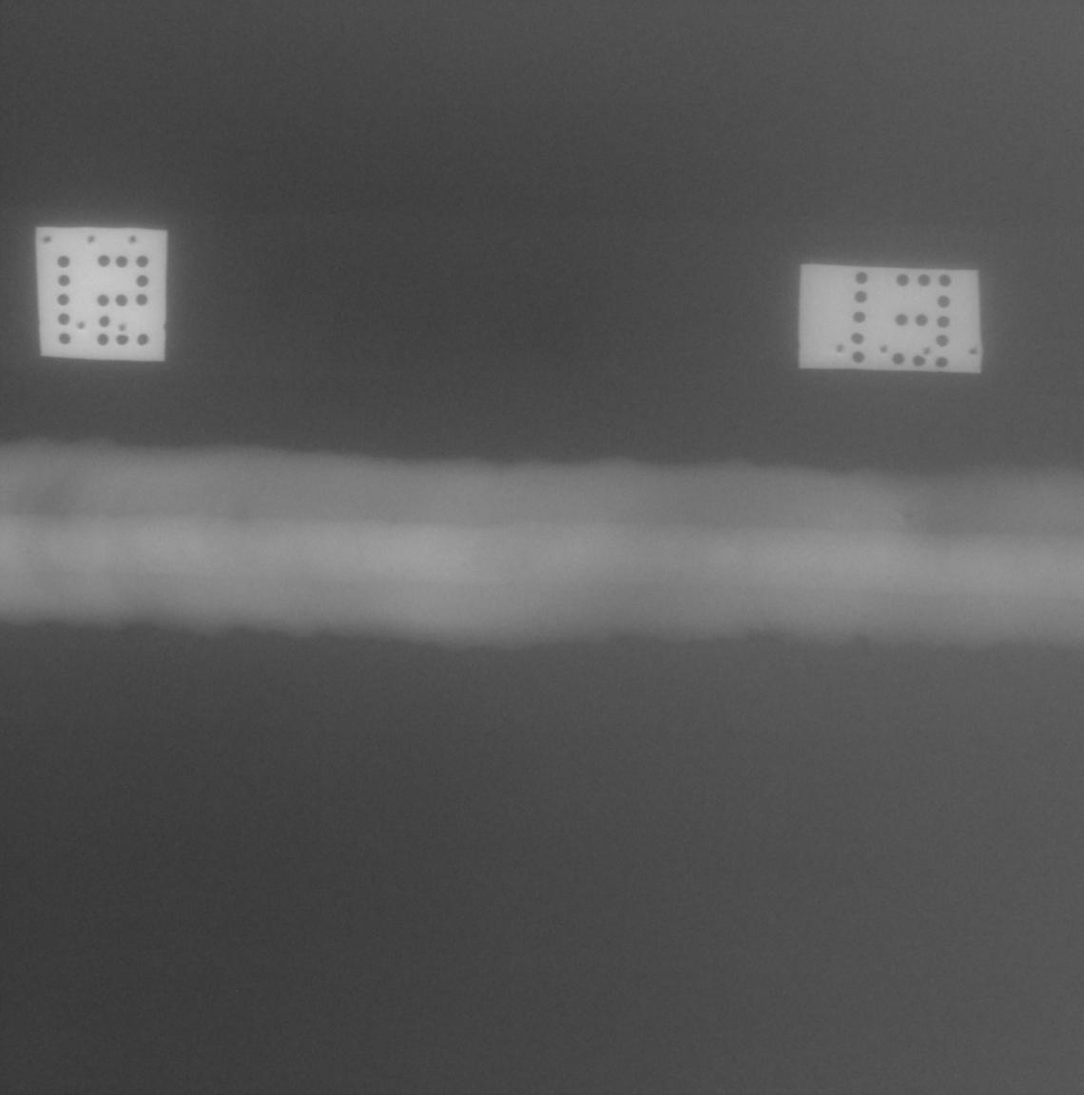Pore/Porosity: (905, 513, 912, 520), (887, 577, 891, 580)
